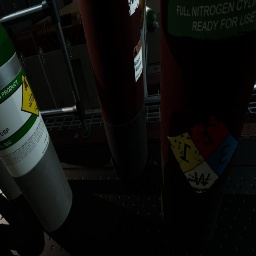0: (0, 23, 72, 232), (0, 158, 22, 200), (146, 6, 159, 33)
NitrogenTank ,: (160, 0, 256, 253), (77, 0, 148, 181)
